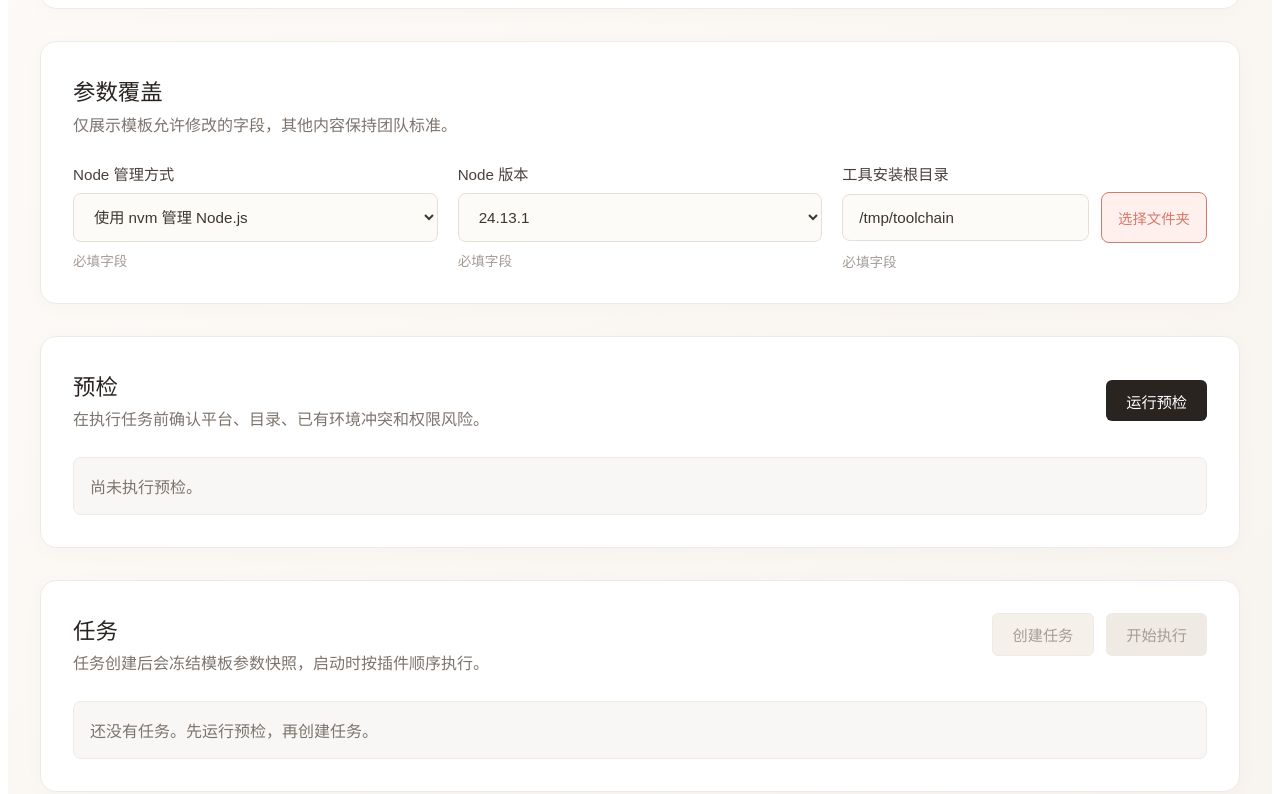
Test: App › creates a task after precheck
(page scrolled)
Click the button "运行预检": click(1157, 401) [1106,380,1207,421]
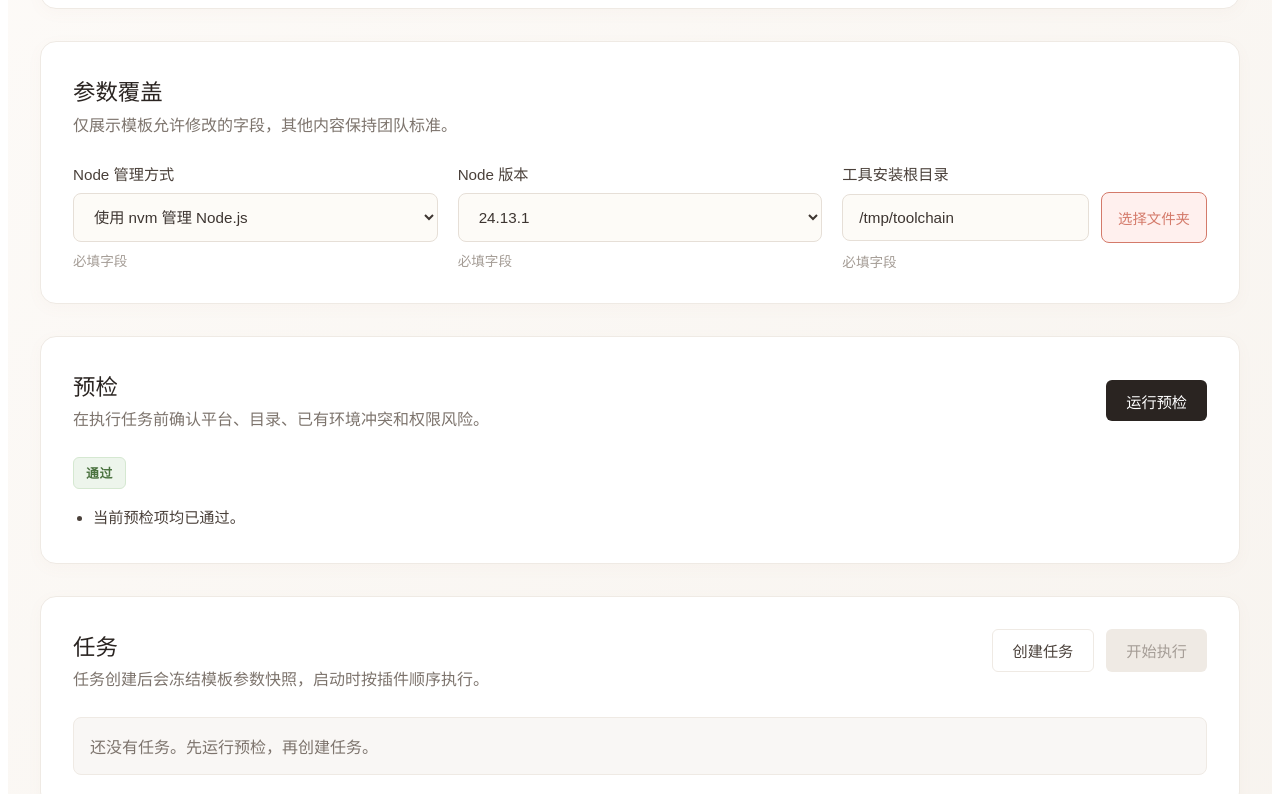
Check: the list item "当前预检项均已通过。" is shown, box [93,509,245,526]
Check: the button "创建任务" is enabled
Click the button "创建任务": click(1043, 650) [992,629,1094,672]
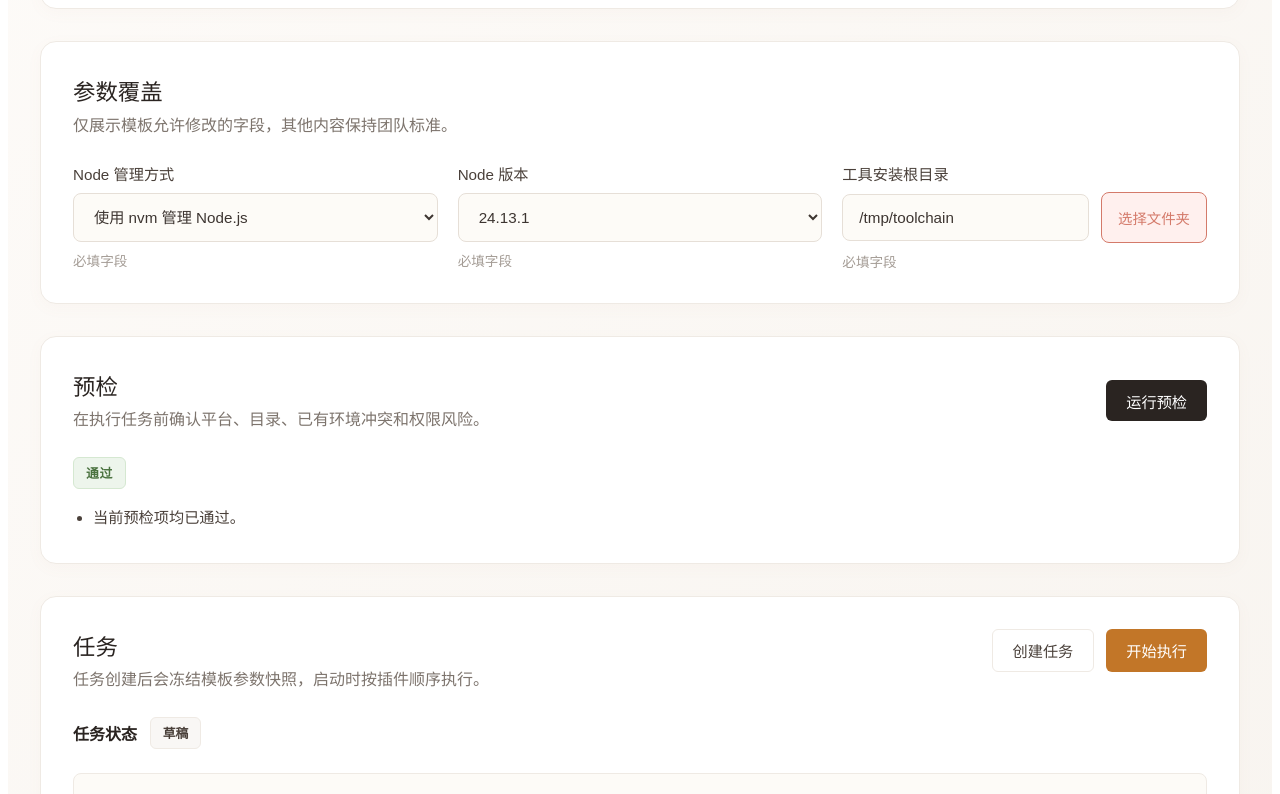
Check: the text "任务状态" is shown, box [73,721,137,745]
Check: the text "草稿" is shown, box [150,717,201,749]
